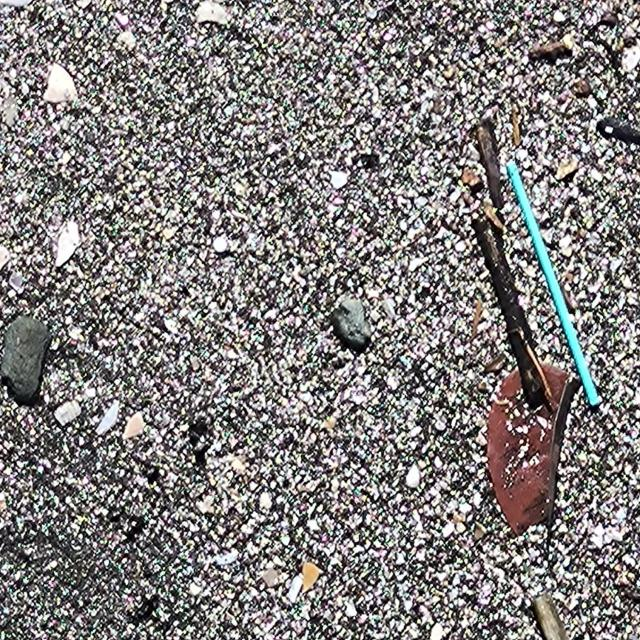plastic_waste: (510, 163, 602, 409)
